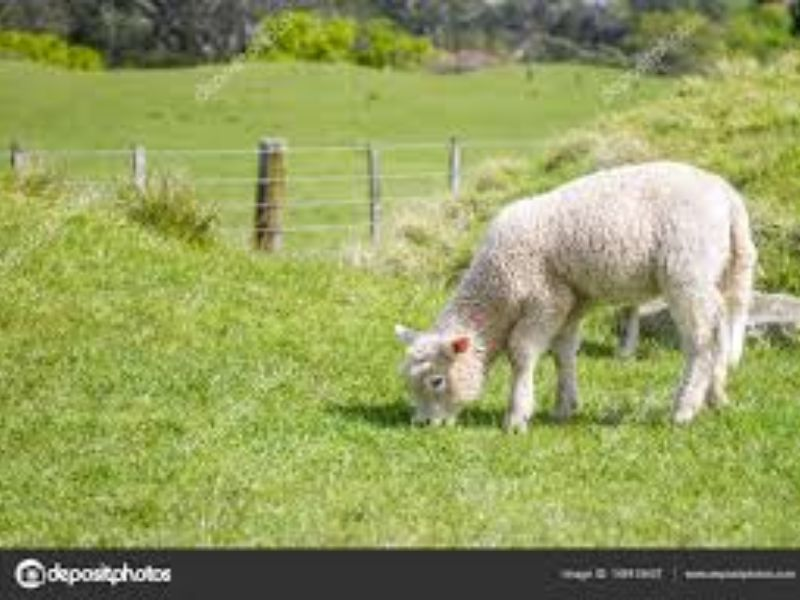sheep: (374, 144, 753, 477)
